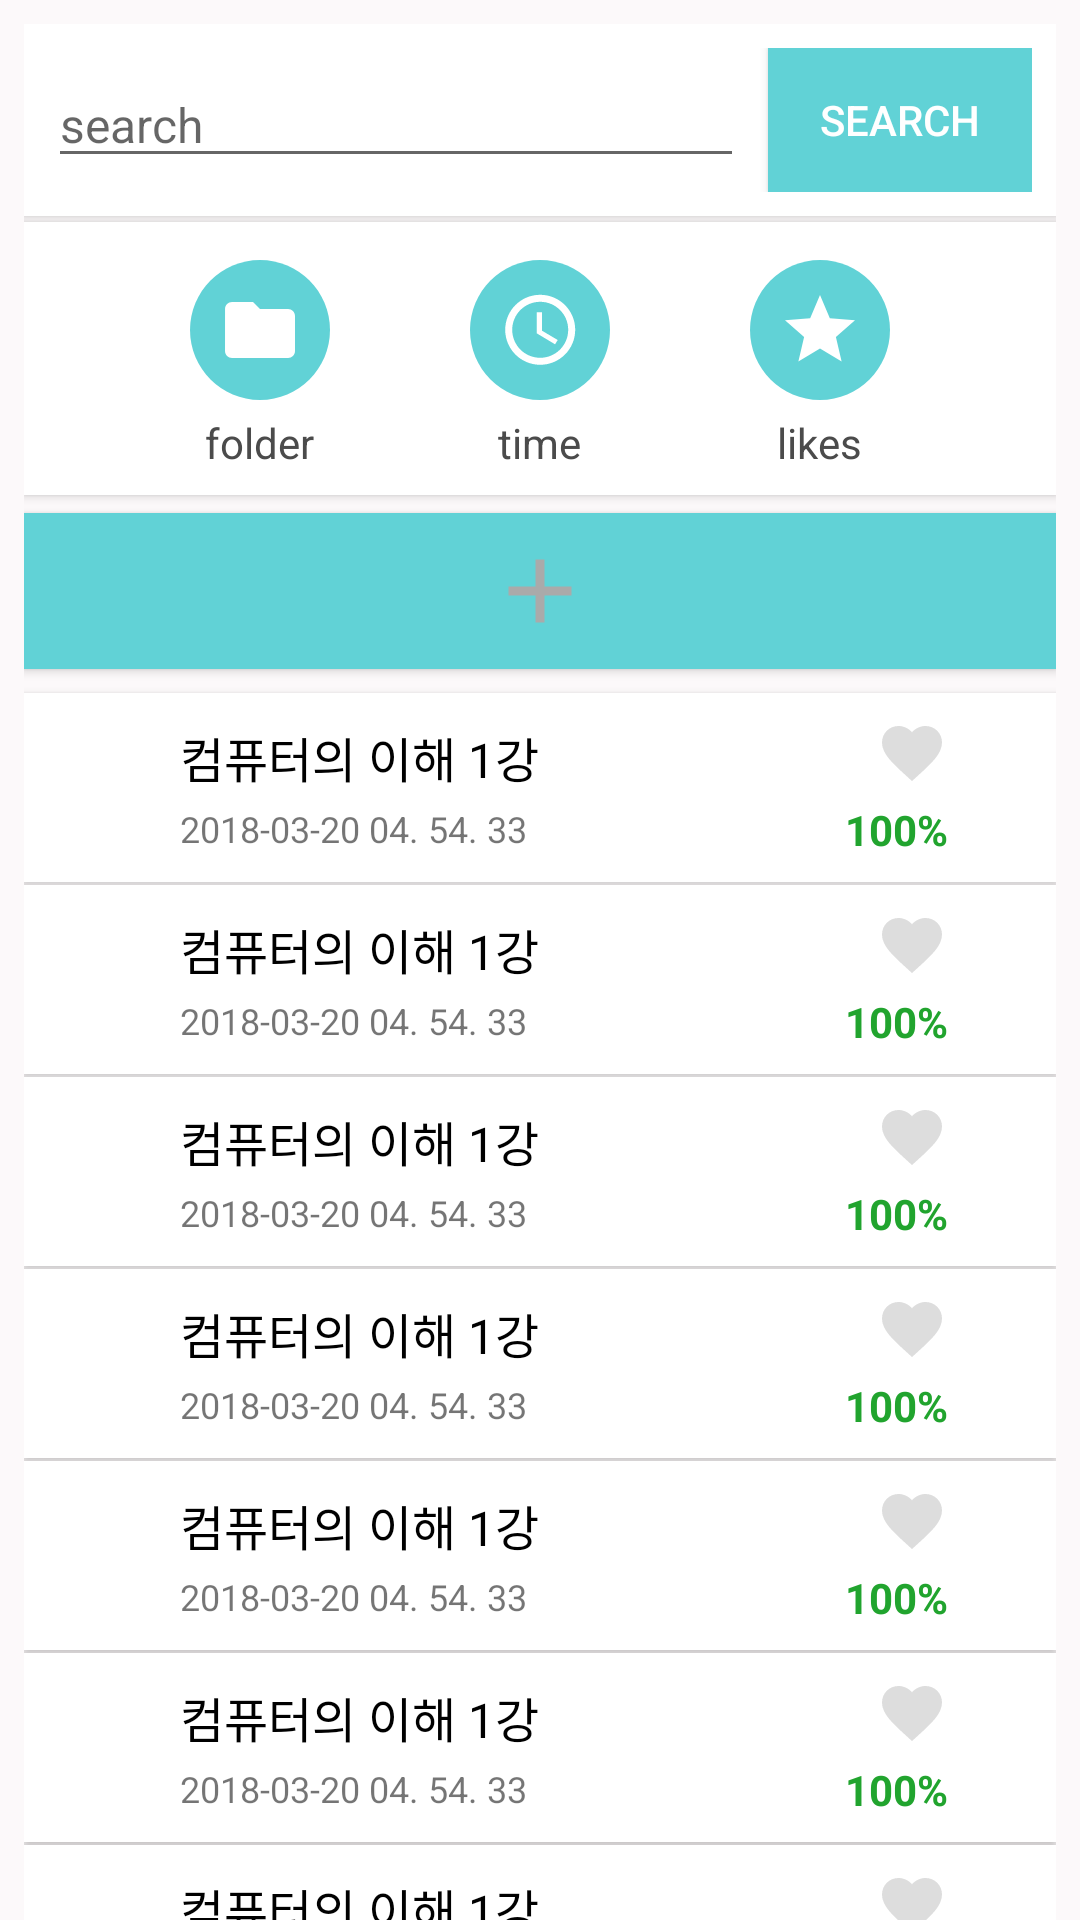

Icon bounding boxes for this 1080 × 1920 phone screenshot, format bbox(x1, y1, x2, y2):
add: bbox(508, 559, 572, 623)
sel star starselected: bbox(750, 260, 890, 400)
